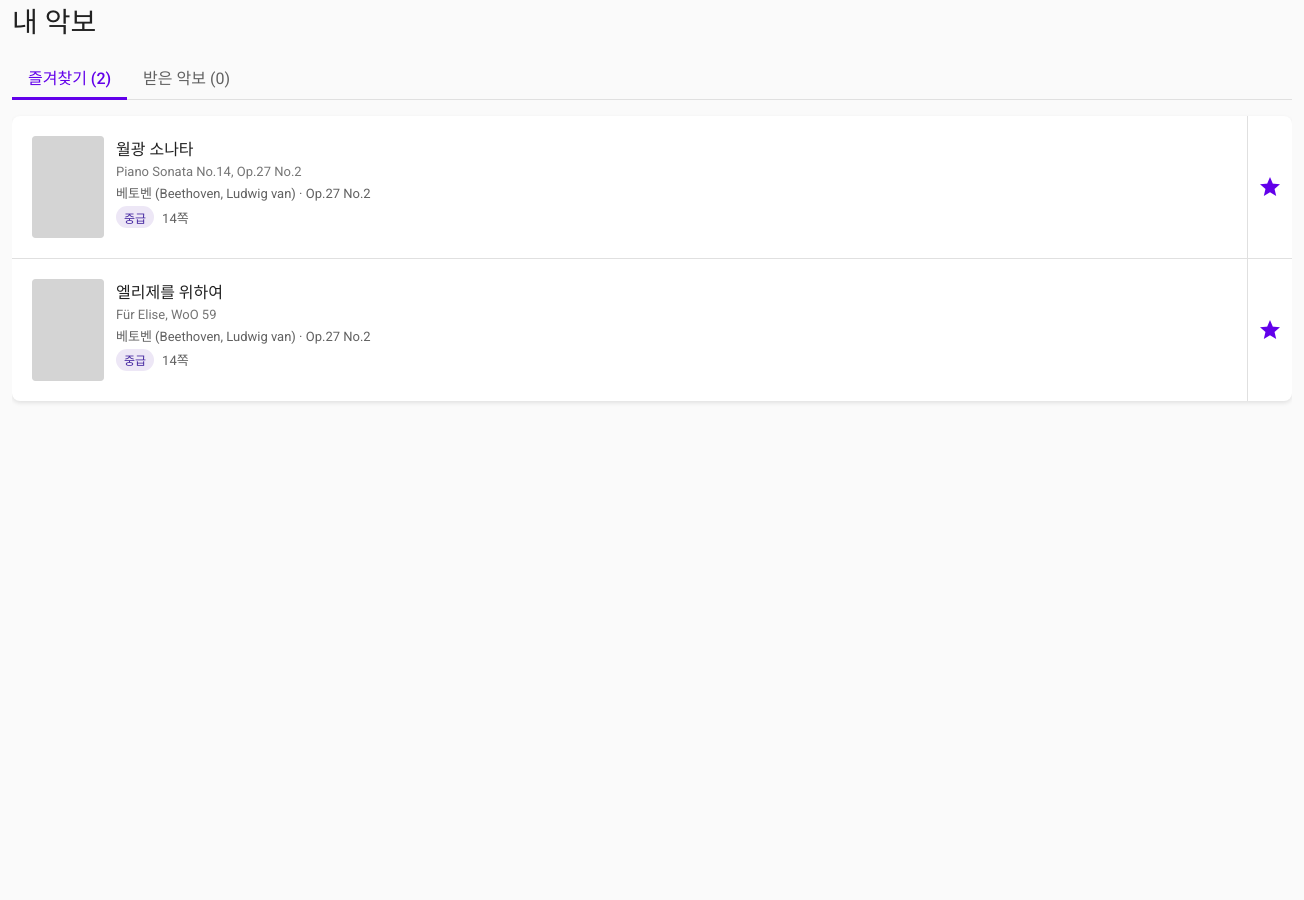
내 악보 — 즐겨찾기 해제 토스트 (00 §3-11 ②③) › 해제 실패는 error 아이콘이다
The width and height of the screenshot is (1304, 900).
Click the button named "즐겨찾기 해제" in the row of "Piano Sonata No.14, Op.27 No.2" at (1270, 187), box [1248, 165, 1292, 209]
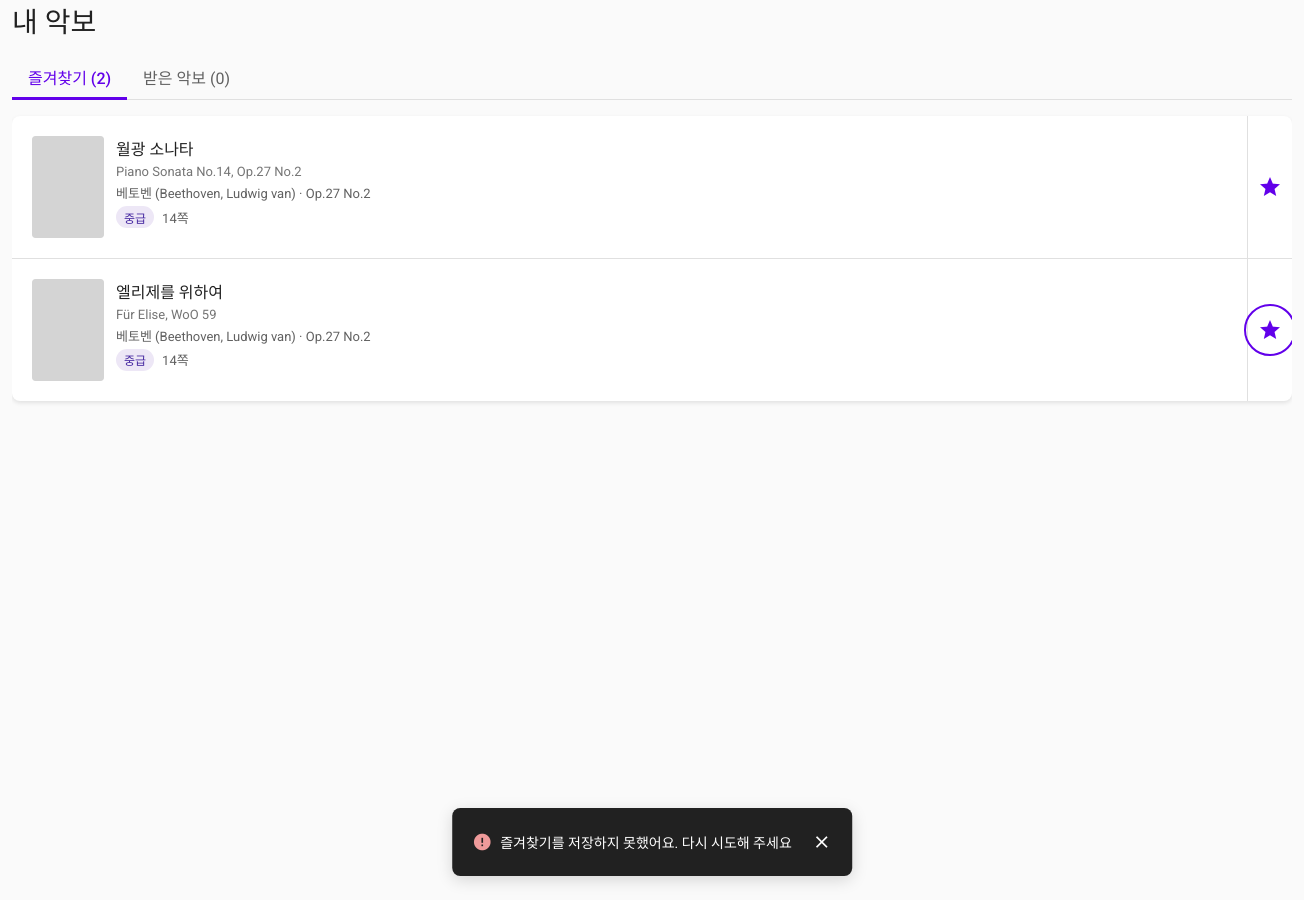
Now the text "즐겨찾기를 저장하지 못했어요. 다시 시도해 주세요" is shown, box [500, 832, 792, 852]
